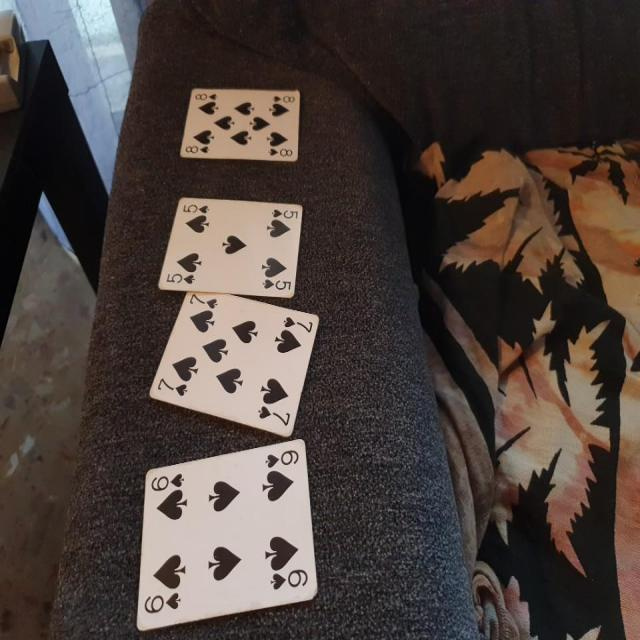5 Spades: (153, 190, 312, 303)
6 Spades: (136, 435, 330, 640)
7 Spades: (147, 284, 326, 438)
8 Spades: (179, 84, 307, 170)
